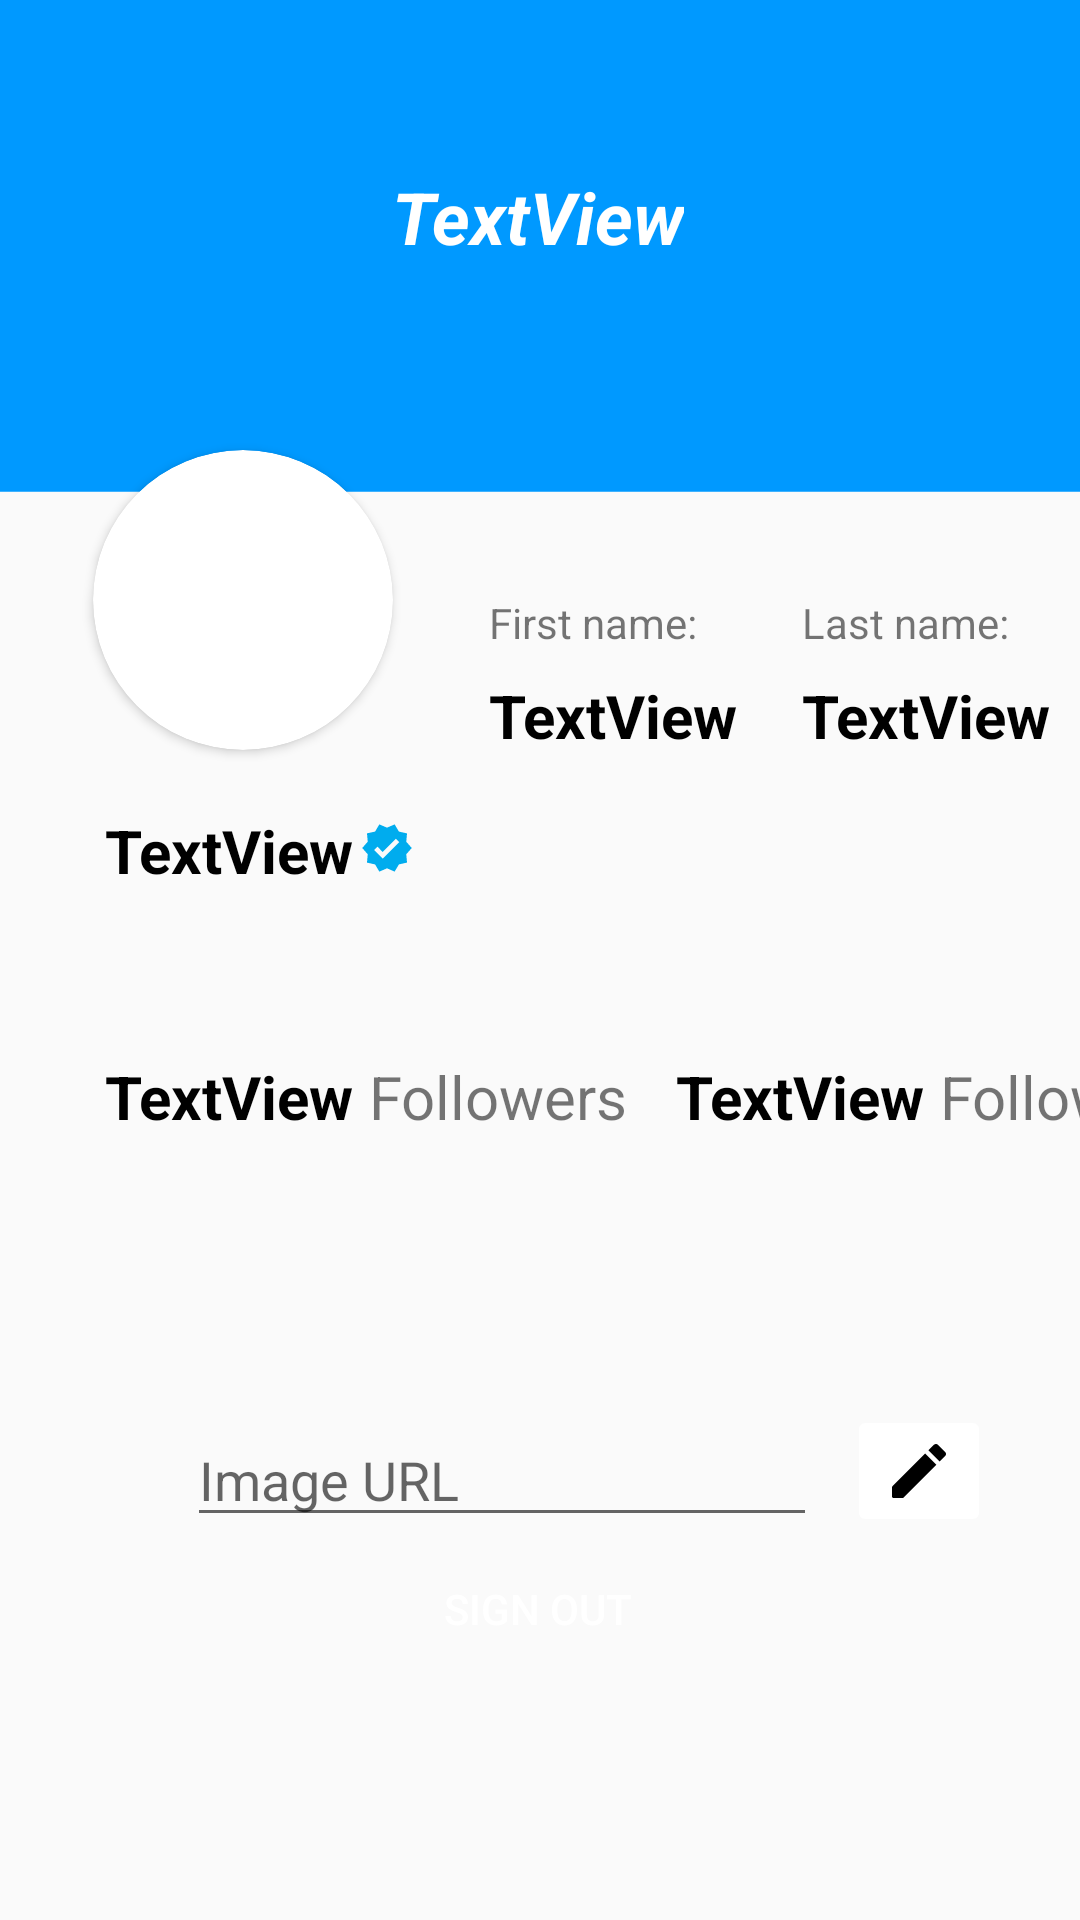

Locate icon controls on the screen. Image size 1080 × 1920, boxes as detection(x1, y1, x2, y2).
edit: detection(892, 1444, 946, 1498)
verified: detection(362, 824, 412, 872)
